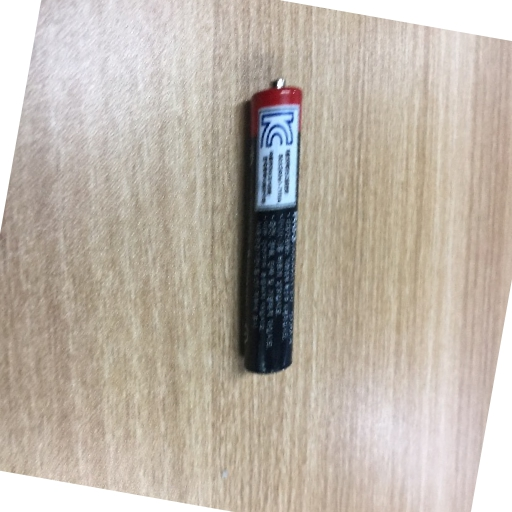Battery_0: (232, 68, 309, 386)
